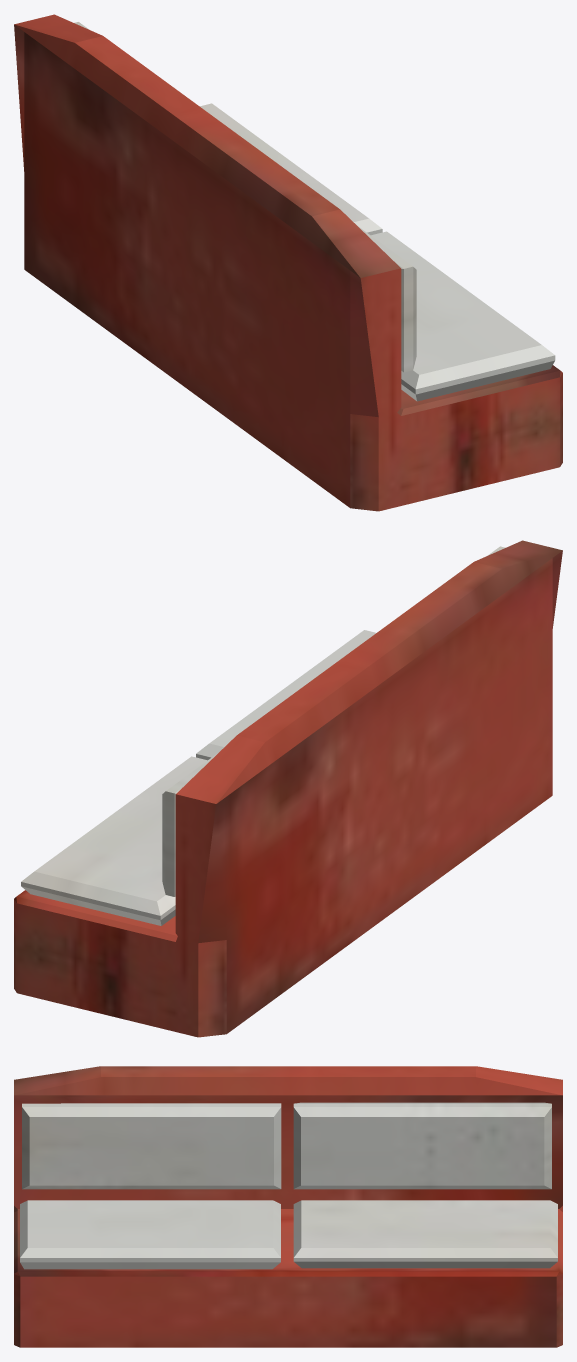
The model's file is couch.fbx.
The picture shows the model from 3 angles, top to bottom: view 1: azimuth 30°, elevation 25°; view 2: azimuth 150°, elevation 25°; view 3: azimuth 270°, elevation 25°; orthographic projection. The views are drawn at different scales.
Parts seen in each view (by area): view 1: Cube; view 2: Cube; view 3: Cube.
Part boxes in pixels (x1,y1,x2,y2): Cube: (14, 14, 562, 511); Cube: (14, 540, 562, 1037); Cube: (14, 1066, 562, 1347).
Bounding box in the file's own units: 68.73 × 82.09 × 200.
